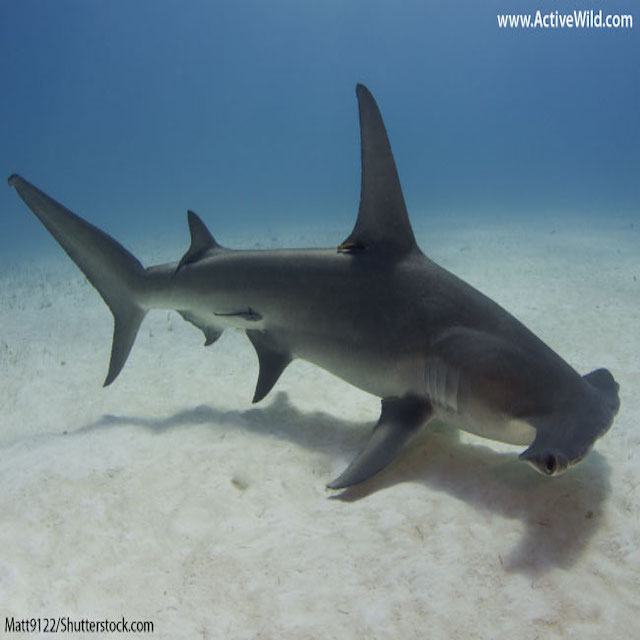hammerhead: (450, 268, 640, 515)
